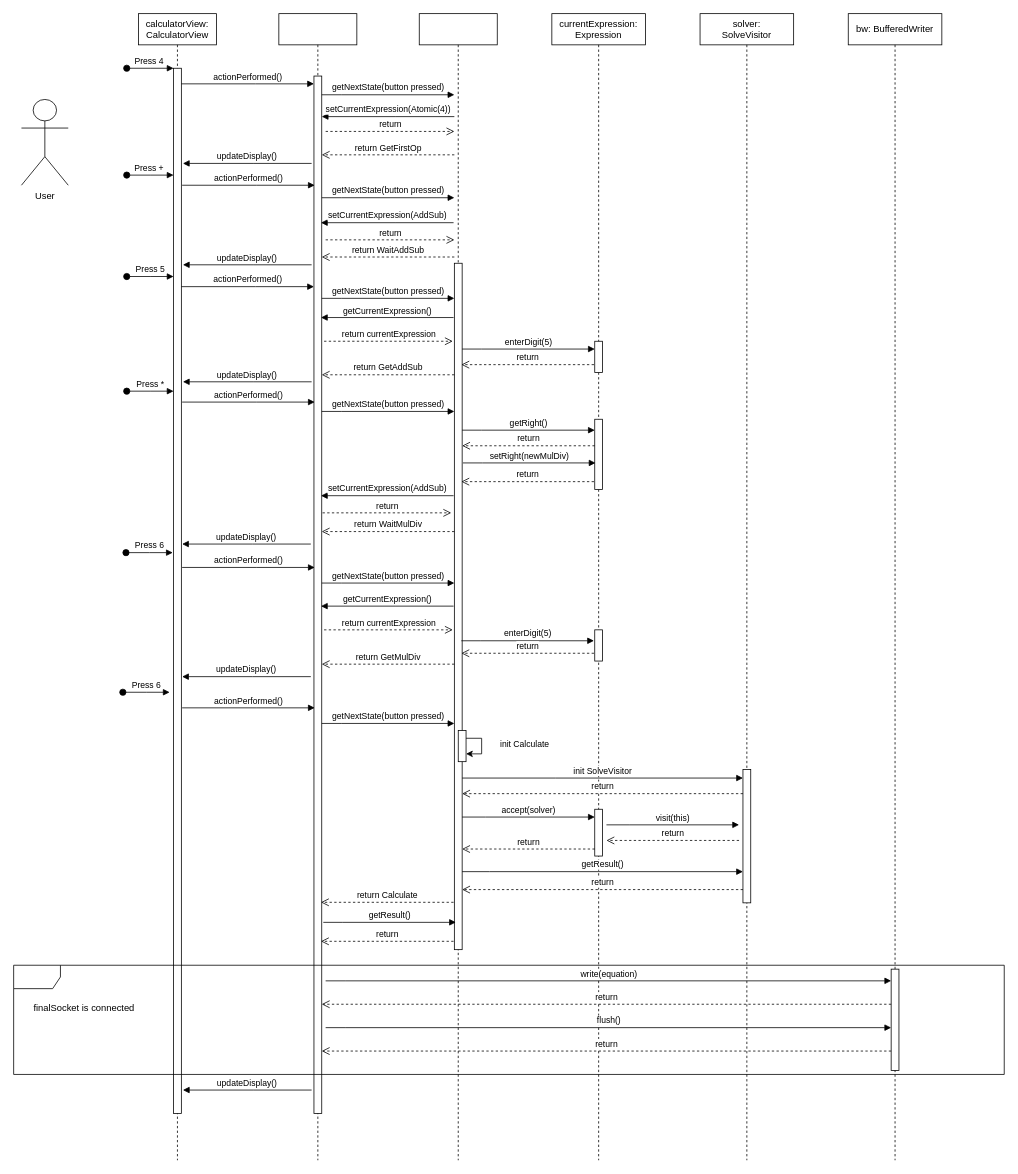
This 1018x1174 diagram has some shape labels left out. The shapes that lost their labels are listed below. From the top down, each one's box as (x1, y1, x2, y2) in pixels, then its label:
(278, 13, 357, 1160): calculatorDriver: CalculatorDriver
(418, 13, 497, 1160): currentState: State
(13, 964, 1004, 1074): alt
